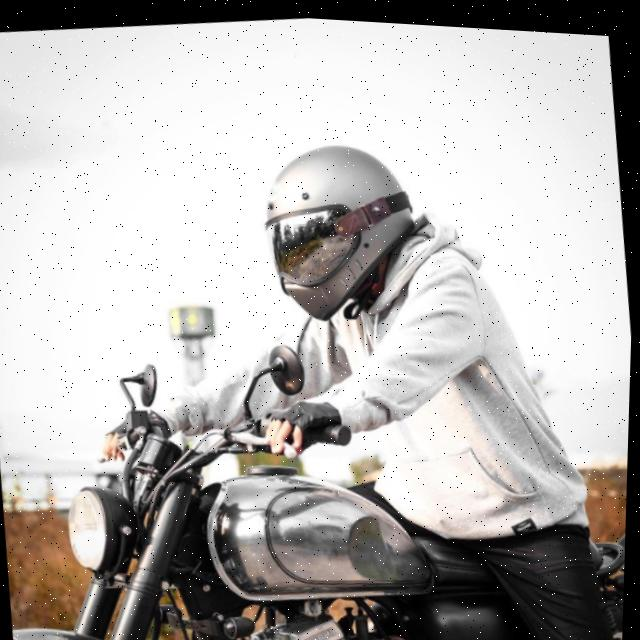helmet: (251, 123, 435, 334)
